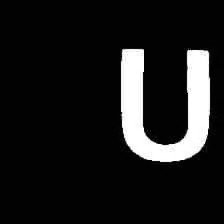LTR_U: (112, 38, 219, 167)
